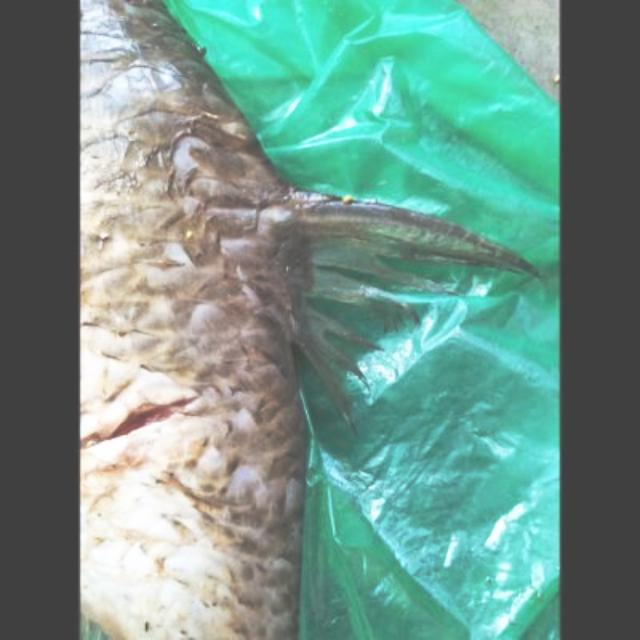Edwardsiella Ictaluri -Bacterial Red Disease-: (80, 0, 536, 638)
